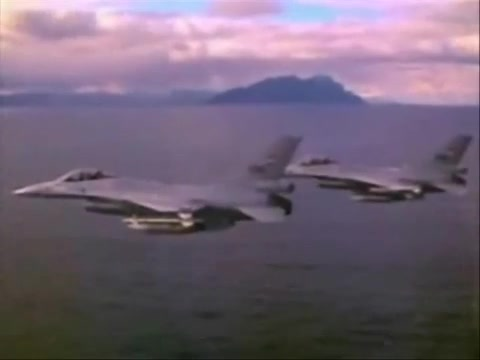aeroplane: (12, 135, 303, 236)
